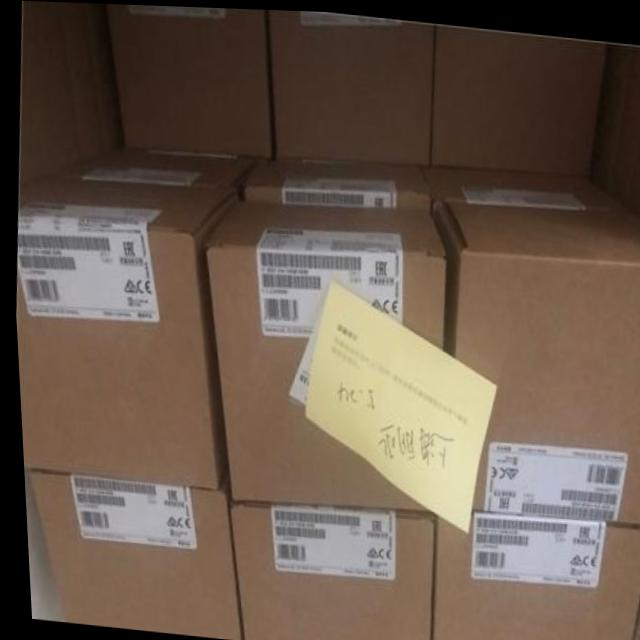box: (201, 197, 444, 510), (13, 174, 242, 487), (21, 466, 237, 639), (440, 344, 640, 522), (429, 198, 640, 364), (423, 507, 640, 640), (429, 20, 609, 177), (225, 504, 428, 640), (98, 3, 275, 154), (268, 8, 435, 164), (20, 1, 115, 197), (241, 154, 430, 208), (419, 163, 632, 206), (590, 37, 640, 211), (67, 148, 257, 186), (625, 555, 640, 640)
